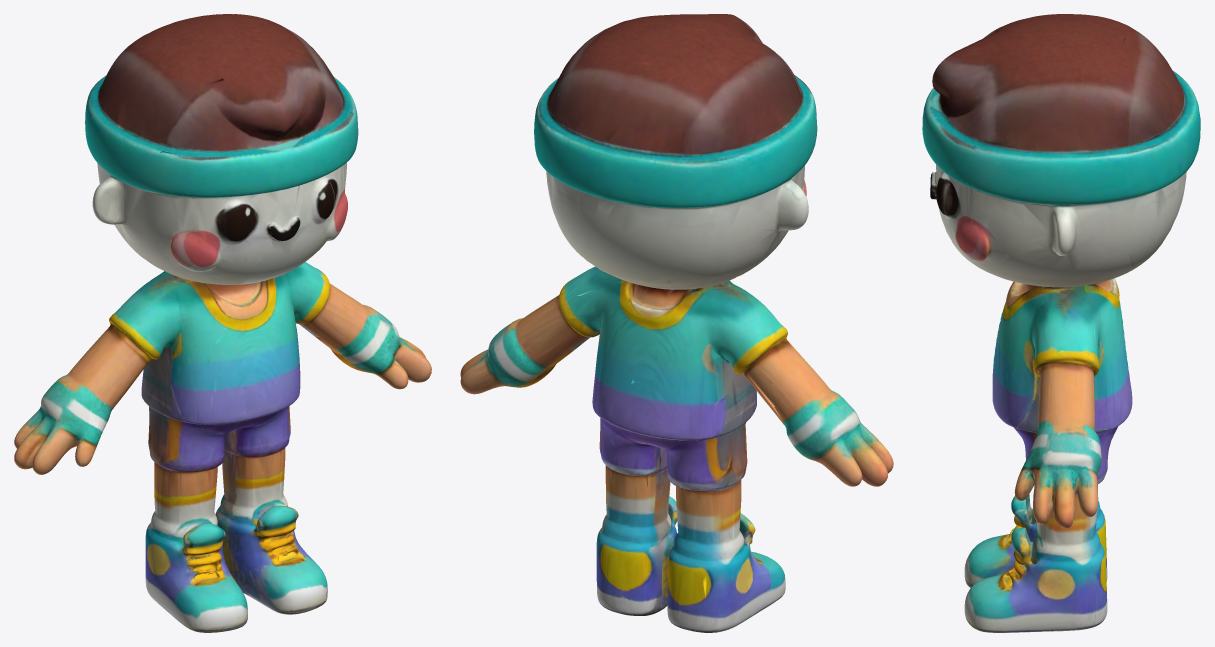
Rendered from Truc.glb.
3 renders of one model, left to right at view 1: azimuth 30°, elevation 25°; view 2: azimuth 150°, elevation 25°; view 3: azimuth 270°, elevation 25°, orthographic. The views are drawn at different scales.
Parts seen in each view (by area): view 1: Mesh_0; view 2: Mesh_0; view 3: Mesh_0.
Part boxes in pixels (box(x1,y1,x2,y2)): Mesh_0: box(14, 14, 431, 632); Mesh_0: box(460, 14, 893, 632); Mesh_0: box(922, 14, 1200, 632).
Bounding box in the file's own units: 3.83 × 4.97 × 2.2.
1 material, 1 textured.
